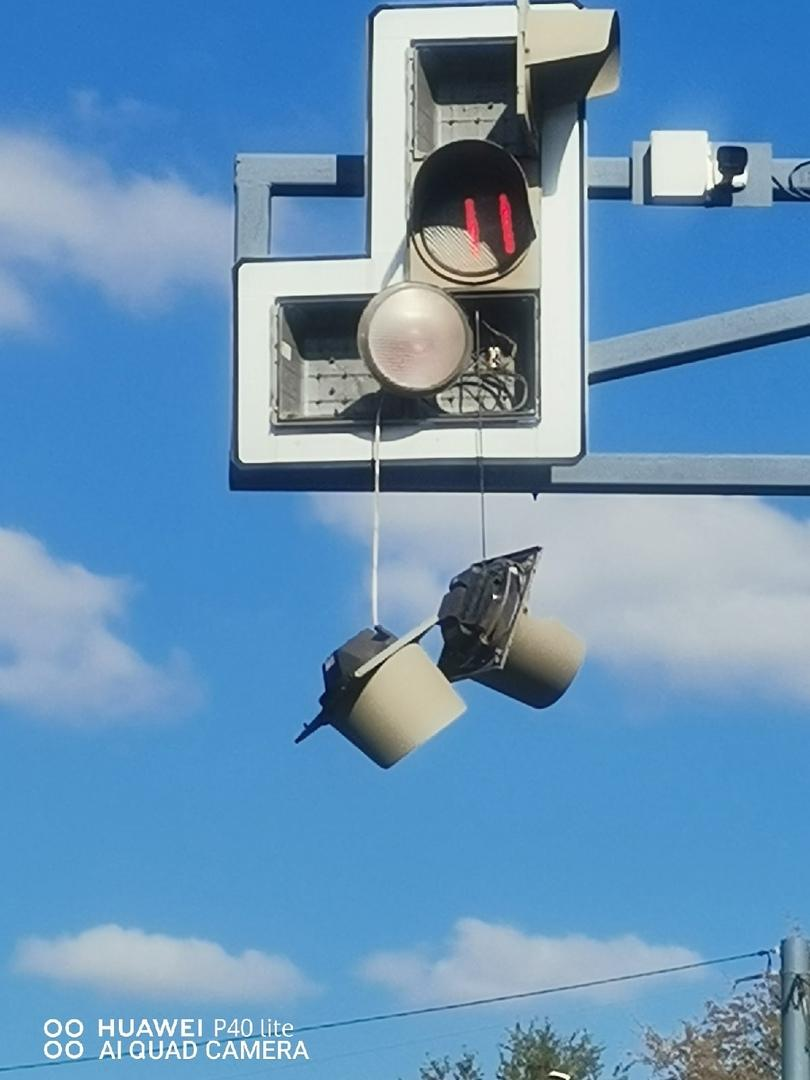off traffic light: (320, 0, 583, 768)
